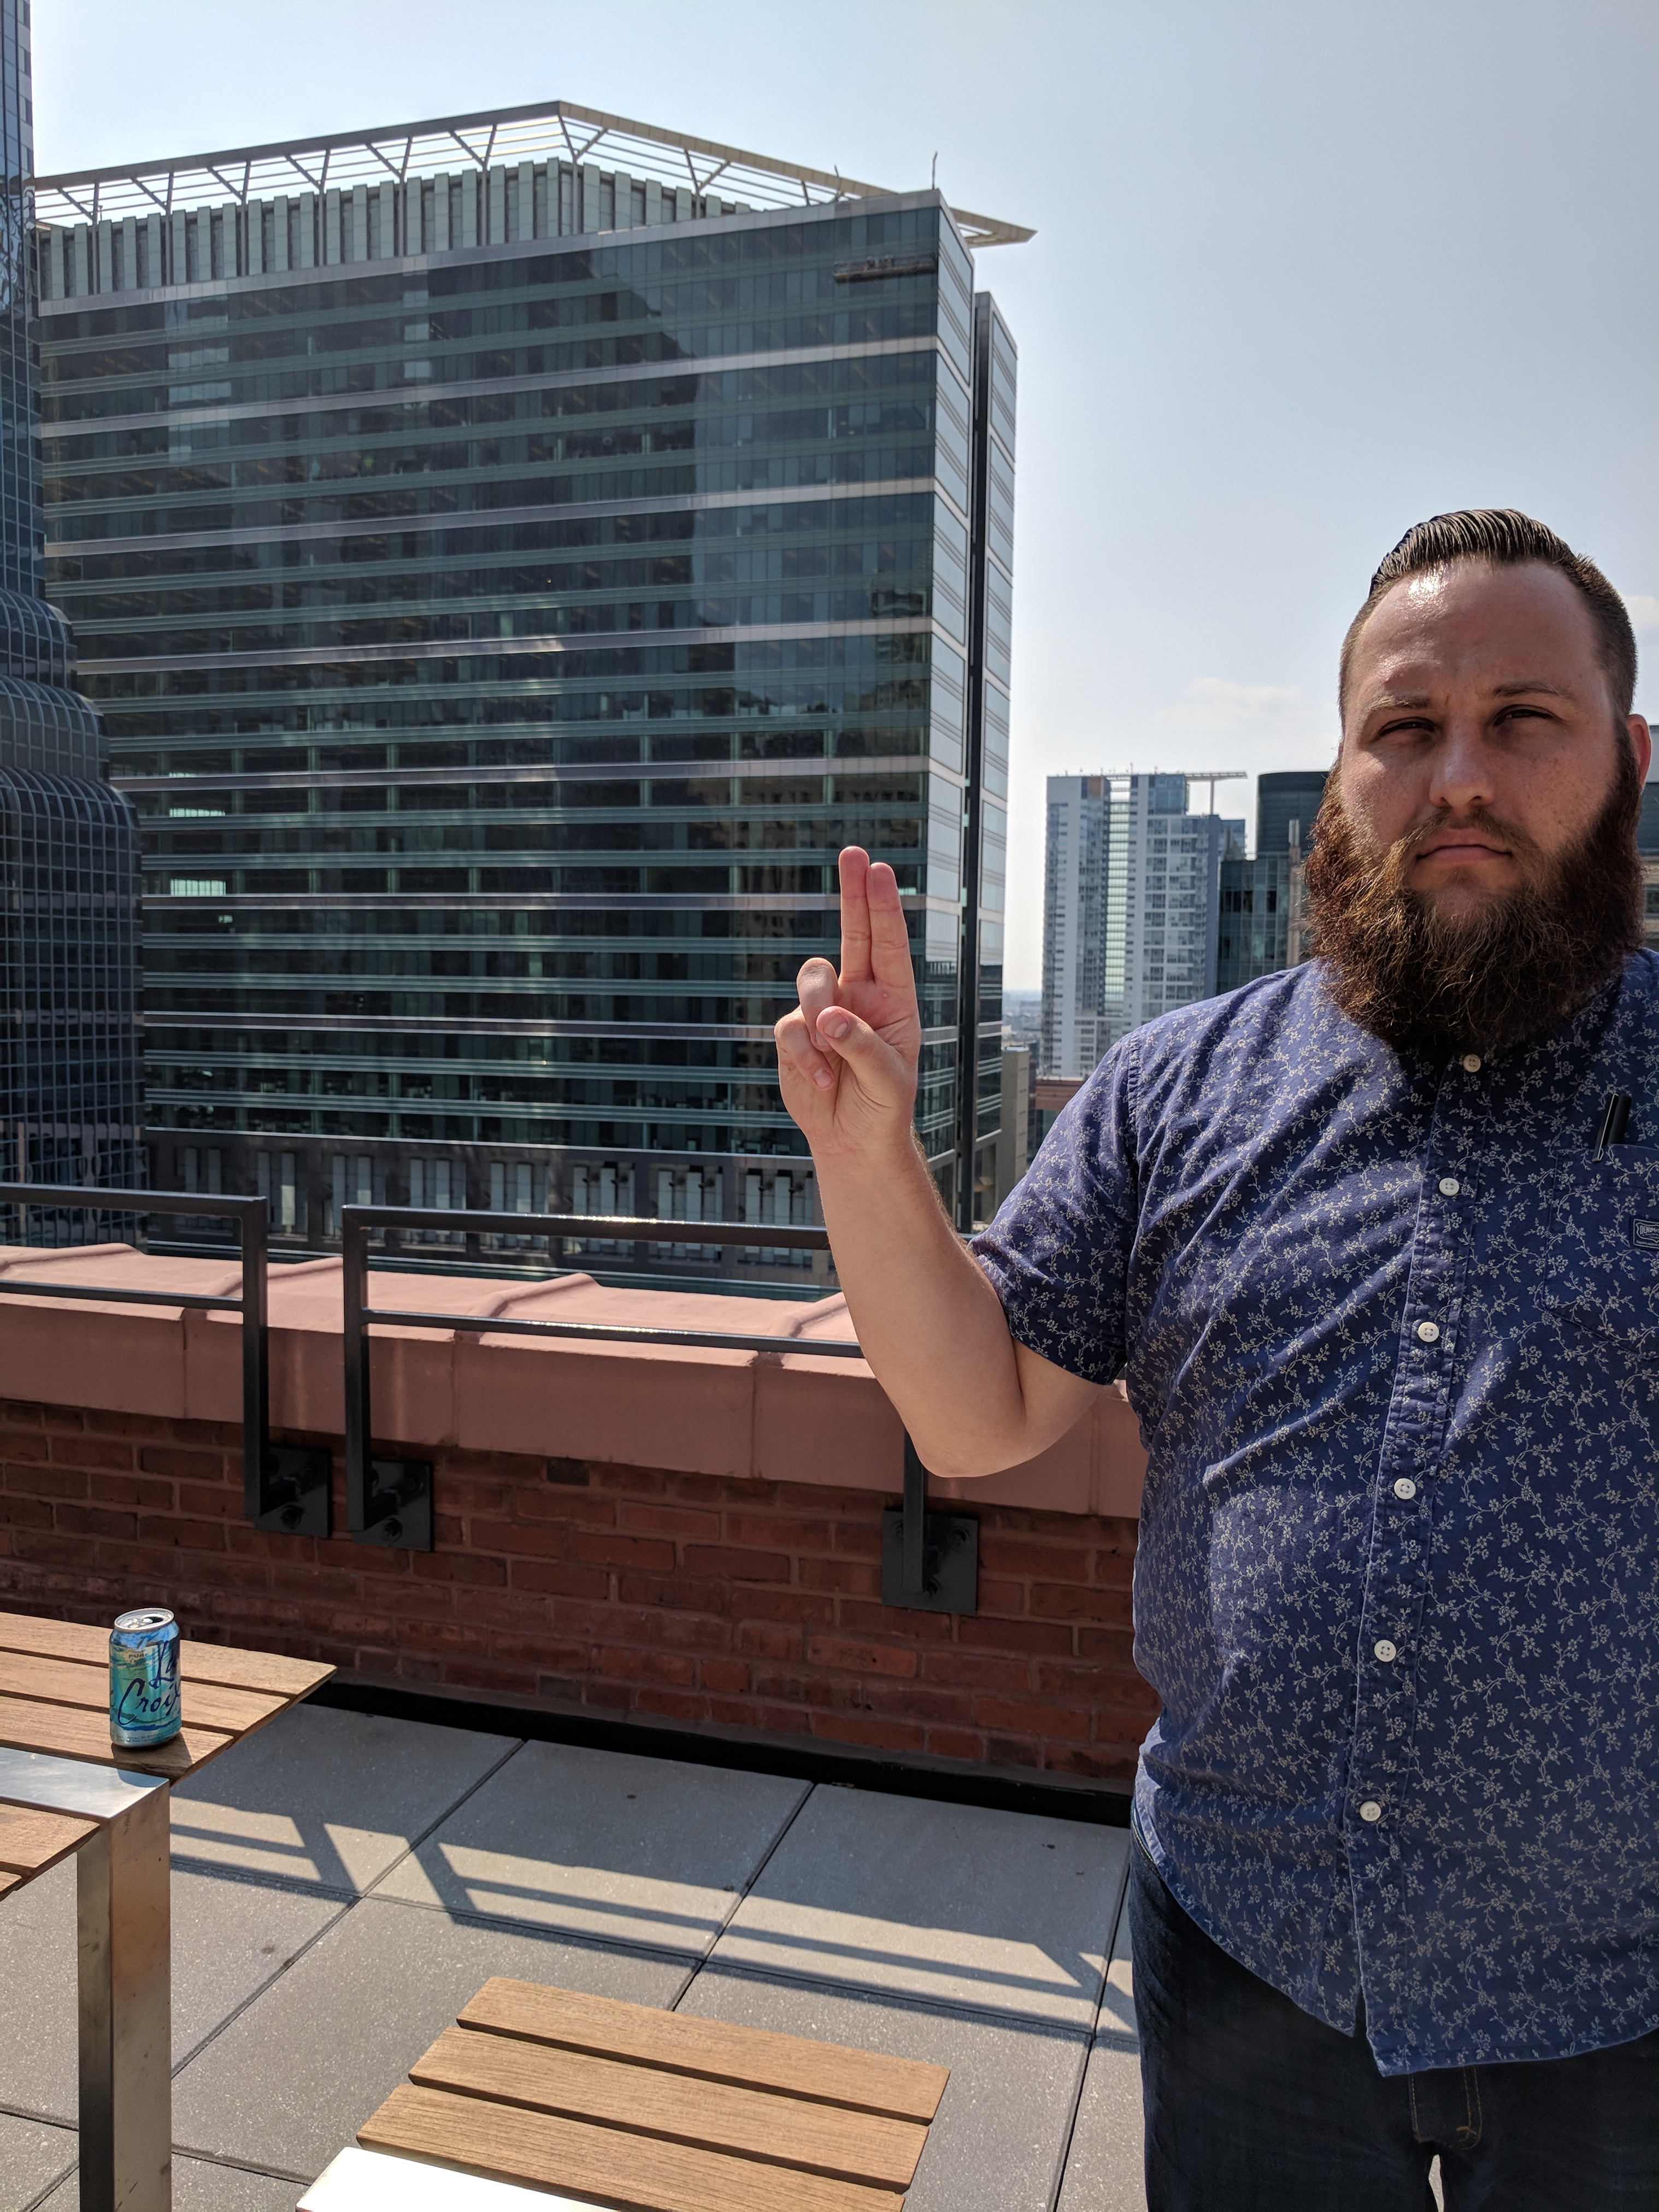u: (760, 841, 941, 1158)
